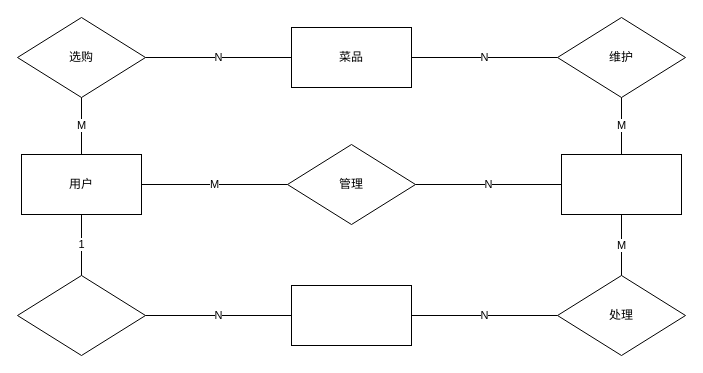
Some shapes in this 703 by 373 pixel diagram are drawn without their labels. Here are the shapes that lost their labels. From the top down, the centre of each, then its label:
At point (621, 184): "管理员".
At point (81, 315): "下单".
At point (351, 315): "订单".
